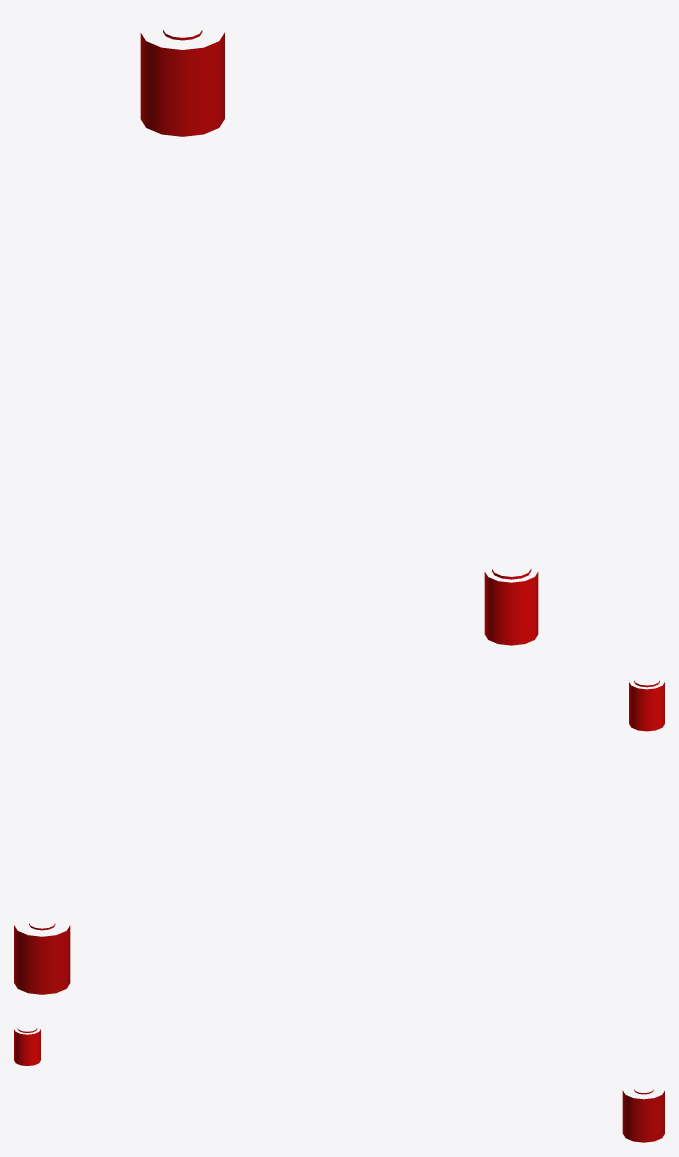
3 views of the same model, one above another, from view 1: azimuth 30°, elevation 25°; view 2: azimuth 150°, elevation 25°; view 3: azimuth 270°, elevation 25° (orthographic). The views are drawn at different scales.
Parts seen in each view (by area): view 1: 44, 497; view 2: 44, 497; view 3: 44, 497.
Boxes of the visible parts, box(x1,y1,x2,y2) form: 44: box(140, 30, 224, 136); 497: box(484, 569, 538, 645); 44: box(14, 923, 70, 994); 497: box(629, 680, 664, 731); 44: box(622, 1089, 664, 1142); 497: box(14, 1028, 40, 1065).
Size of the model in its own units: 7.01 by 1.72 by 22.73.
